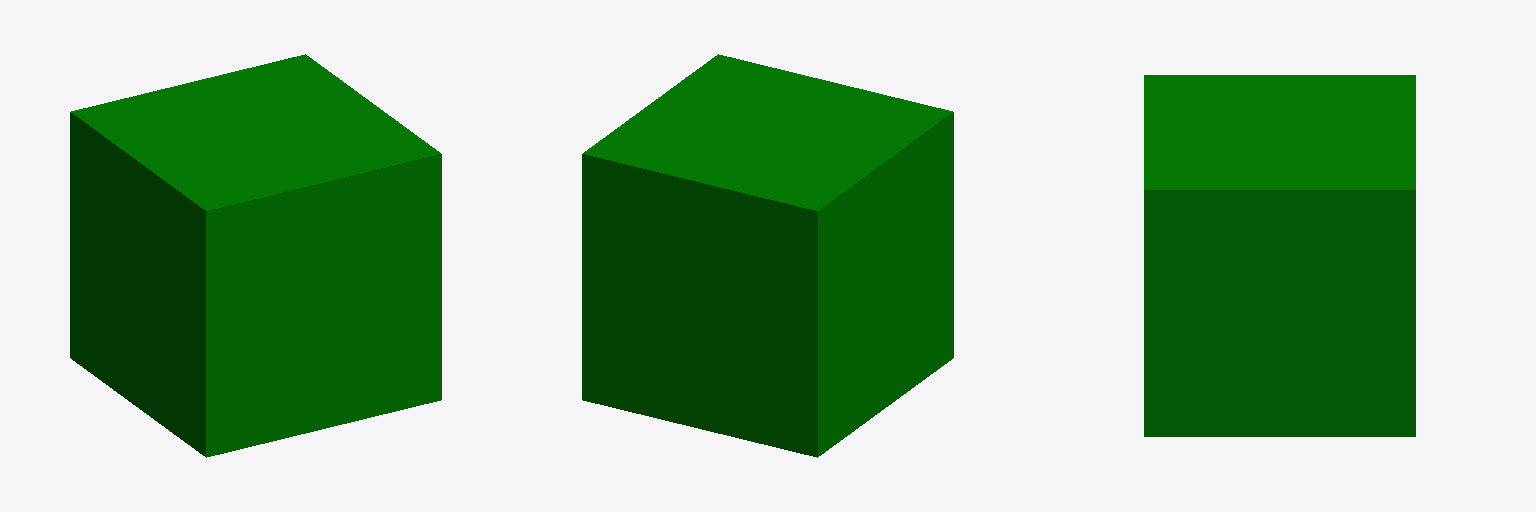
Rendered from big_box1.obj.
3 views of the same model, side by side, from view 1: azimuth 30°, elevation 25°; view 2: azimuth 150°, elevation 25°; view 3: azimuth 270°, elevation 25° (orthographic).
Visible parts, largest first — view 1: Box001; view 2: Box001; view 3: Box001.
Boxes of the visible parts, x1=… form: Box001: x1=70, y1=54, x2=441, y2=457; Box001: x1=582, y1=54, x2=953, y2=457; Box001: x1=1144, y1=75, x2=1415, y2=436.
Bounding box in the file's own units: 20 × 20 × 20.